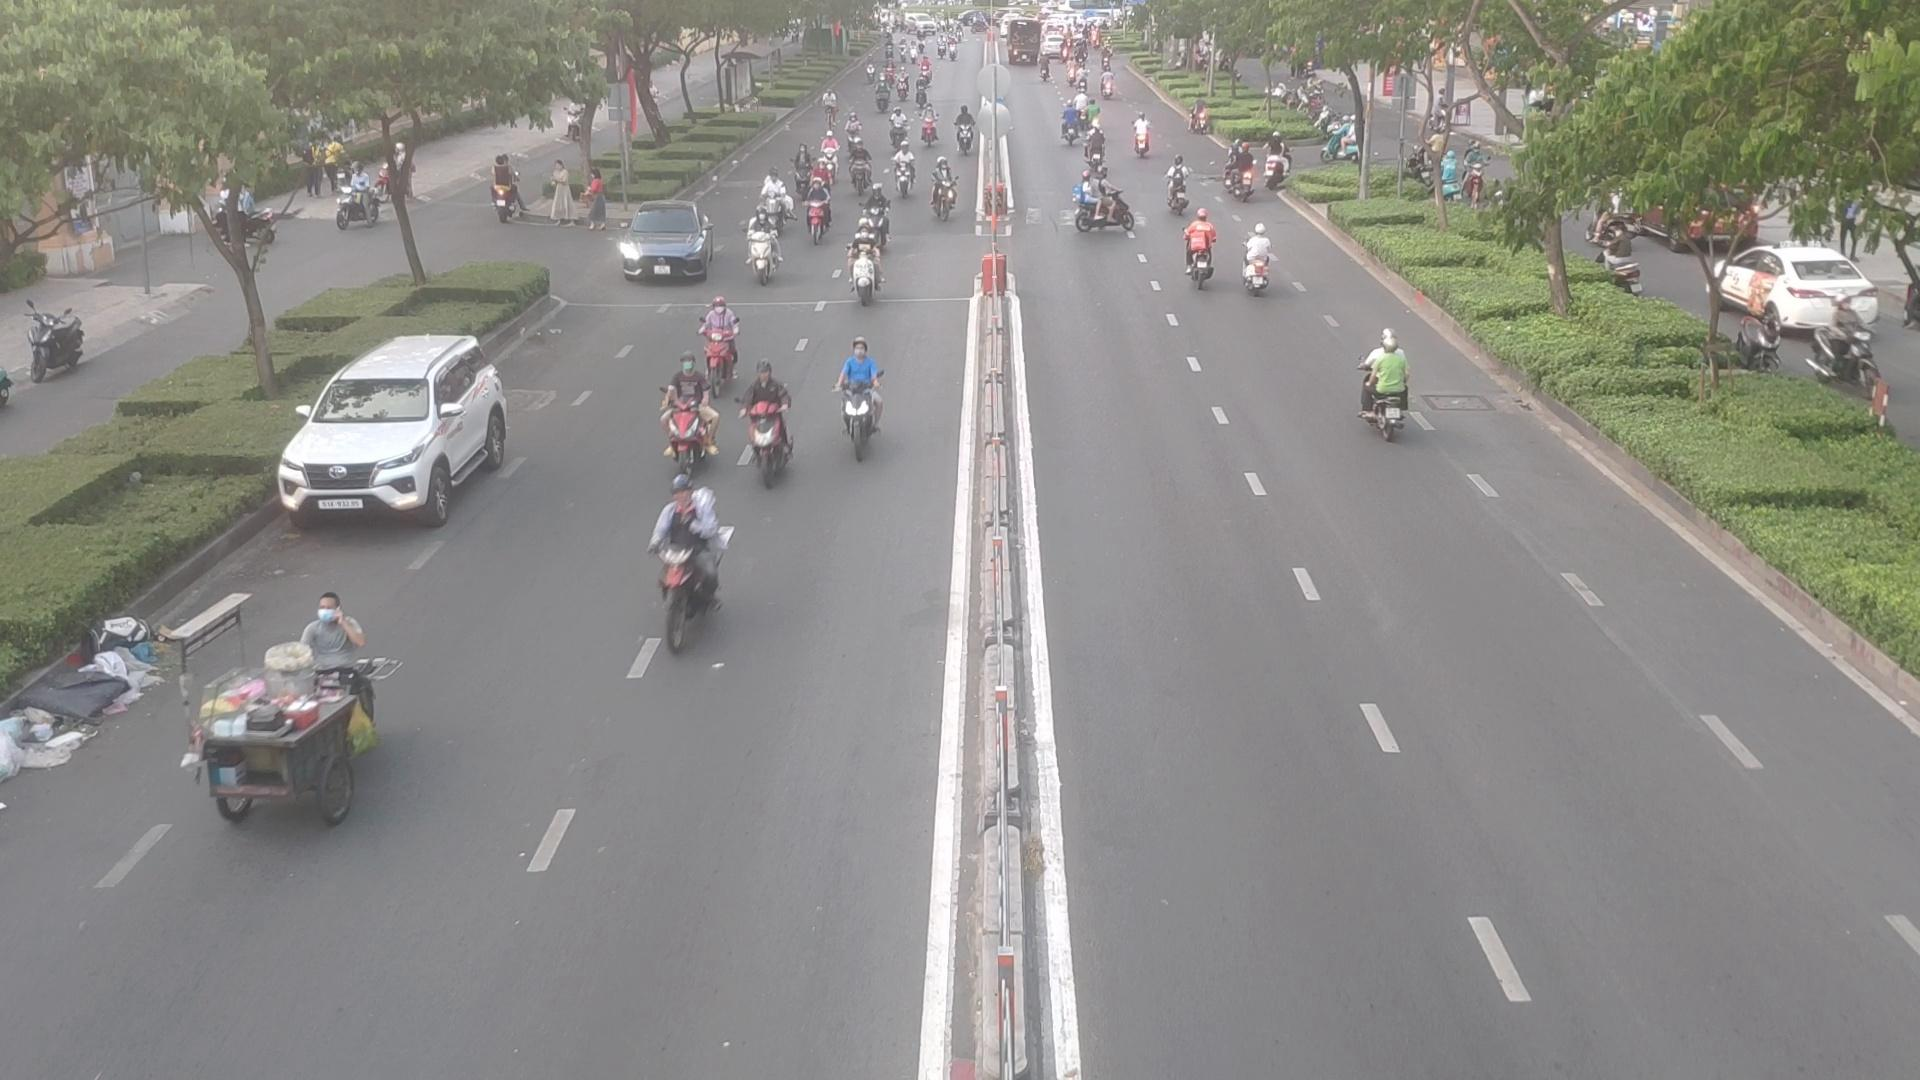car: (276, 339, 522, 521), (611, 212, 723, 282)
motorbike: (651, 477, 724, 644), (647, 371, 720, 473), (827, 353, 890, 465), (1353, 345, 1423, 446), (738, 378, 798, 487), (684, 311, 750, 396), (1069, 183, 1131, 237), (1241, 235, 1284, 298), (843, 247, 886, 307), (1180, 227, 1218, 287), (742, 228, 781, 282), (1160, 169, 1197, 218), (853, 211, 891, 251), (804, 199, 835, 245), (1232, 162, 1263, 204), (1133, 117, 1164, 158), (1056, 111, 1087, 145)
